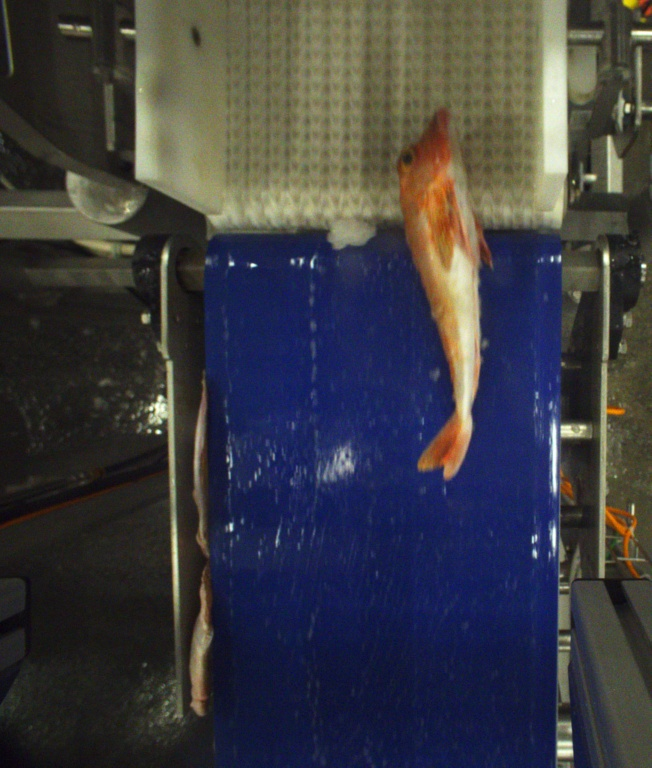GUU: (395, 107, 493, 486)
